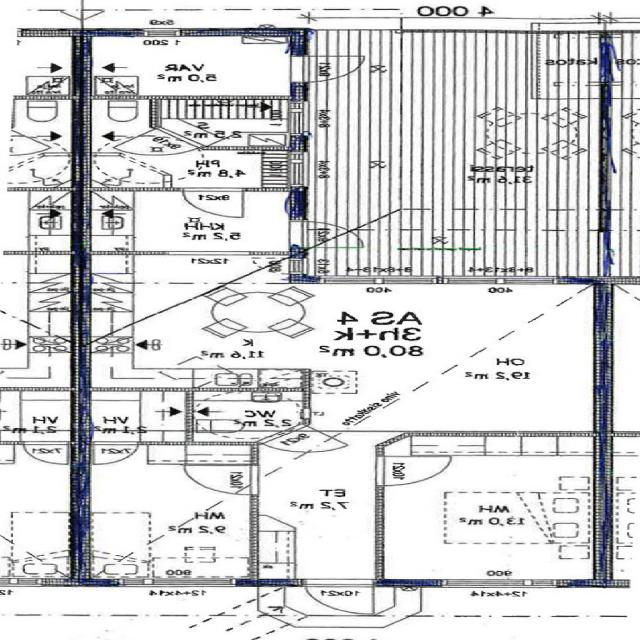door: (112, 127, 204, 167), (256, 423, 346, 463), (306, 580, 374, 617), (376, 457, 451, 486), (184, 466, 257, 495), (289, 56, 366, 82), (289, 222, 366, 247), (183, 188, 243, 218), (94, 442, 137, 464)
